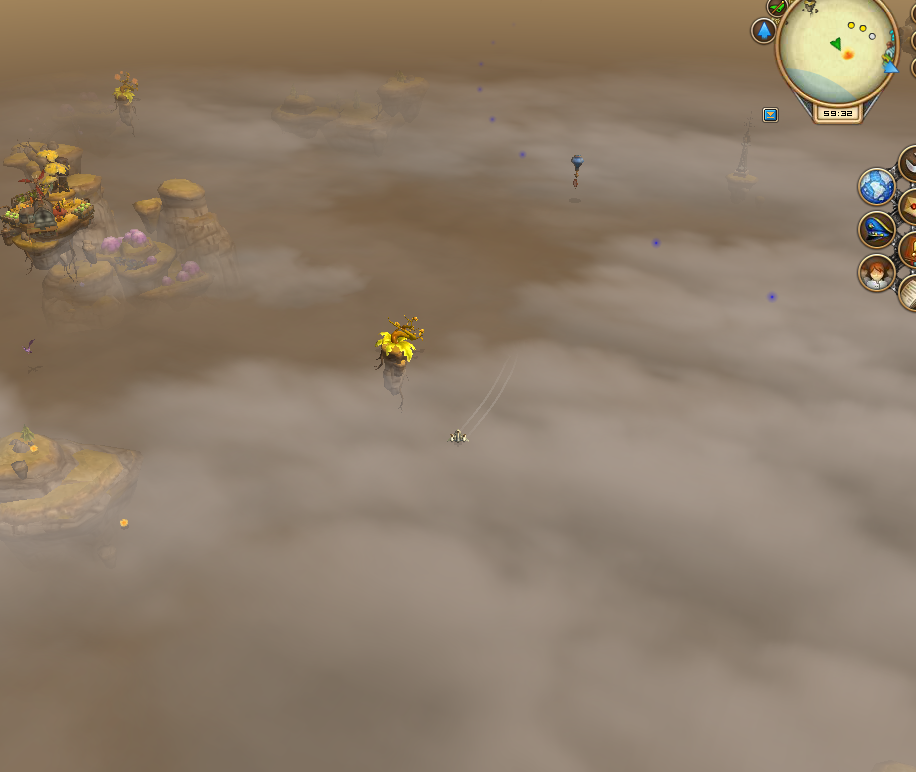dandelion-full: (368, 312, 428, 403), (107, 57, 142, 129)
fluff: (25, 438, 43, 458), (116, 515, 132, 532)
